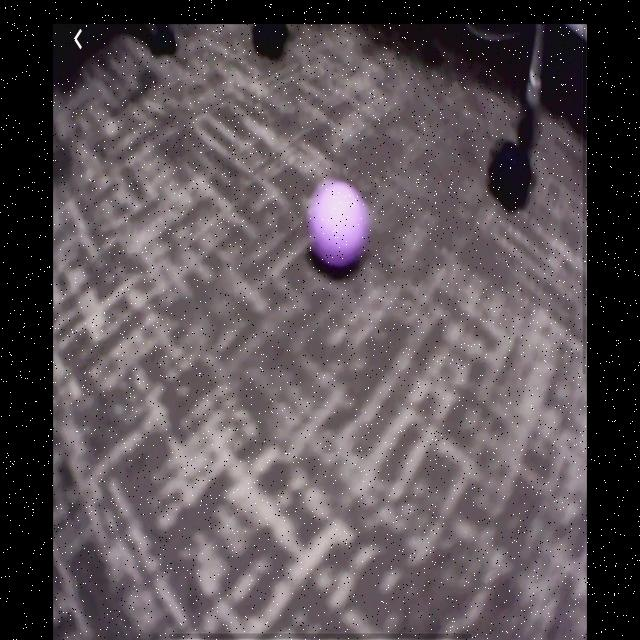ball: (310, 182, 369, 270)
